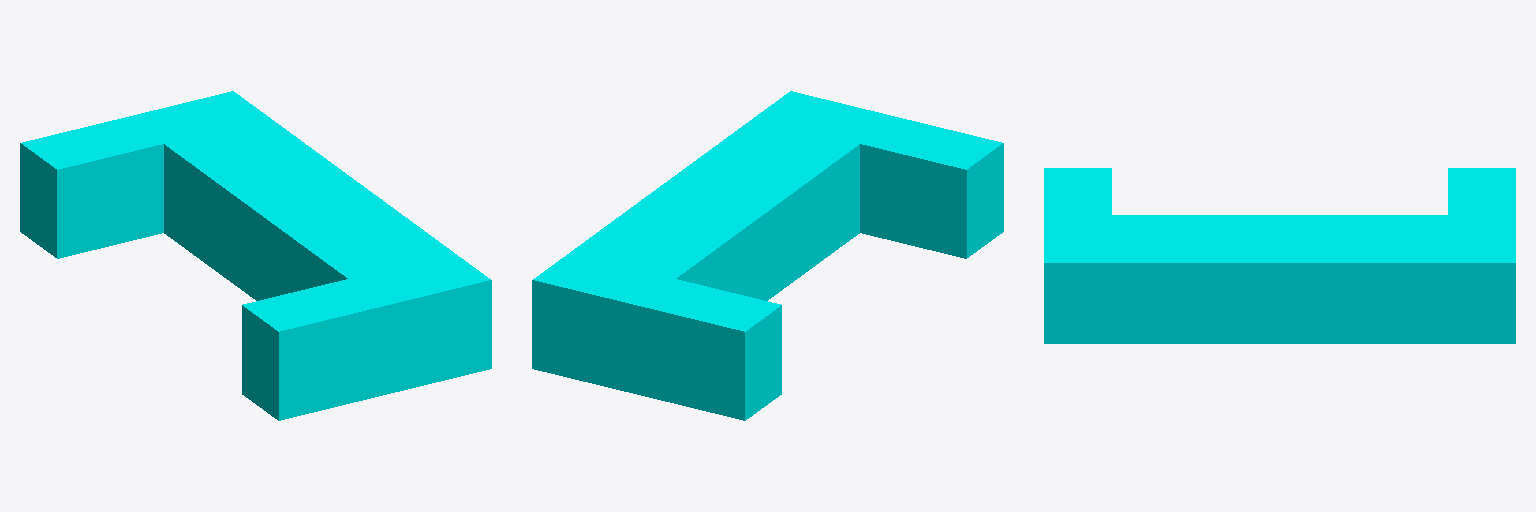
URDF robot description (manipulated_object):
<?xml version="0.0" ?>
<!--
  ~ Copyright 2020 Google LLC
  ~
  ~ Licensed under the Apache License, Version 2.0 (the "License");
  ~ you may not use this file except in compliance with the License.
  ~ You may obtain a copy of the License at
  ~
  ~     https://www.apache.org/licenses/LICENSE-2.0
  ~
  ~ Unless required by applicable law or agreed to in writing, software
  ~ distributed under the License is distributed on an "AS IS" BASIS,
  ~ WITHOUT WARRANTIES OR CONDITIONS OF ANY KIND, either express or implied.
  ~ See the License for the specific language governing permissions and
  ~ limitations under the License.
  -->

<robot name="manipulated_object">
    <link name="handleBody">
        <inertial>
            <origin rpy="0 0 0" xyz="0.075 0.0 0.02"/>
            <mass value="0.5"/>
            <inertia ixx="1" ixy="0" ixz="0" iyy="1" iyz="0" izz="1"/>
        </inertial>
        <visual>
            <origin rpy="0 0 0" xyz="0.075 0.0 0.02"/>
            <geometry>
                <box size="0.05 0.15 0.04"/>
            </geometry>
            <material name="yellow">
                <color rgba="0 1 1 1"/>
            </material>
        </visual>
        <collision>
            <origin rpy="0 0 0" xyz="0.075 0.0 0.02"/>
            <geometry>
                <box size="0.05 0.15 0.04"/>
            </geometry>
        </collision>
    </link>
    <link name="handleLeft">
        <inertial>
            <origin rpy="0 0 0" xyz="0.05 0.09 0.02"/>
            <mass value="0.5"/>
            <inertia ixx="1" ixy="0" ixz="0" iyy="1" iyz="0" izz="1"/>
        </inertial>
        <visual>
            <origin rpy="0 0 0" xyz="0.05 0.09 0.02"/>
            <geometry>
                <box size="0.1 0.03 0.04"/>
            </geometry>
            <material name="yellow">
                <color rgba="0 1 1 1"/>
            </material>
        </visual>
        <collision>
            <origin rpy="0 0 0" xyz="0.05 0.09 0.02"/>
            <geometry>
                <box size="0.1 0.03 0.04"/>
            </geometry>
        </collision>
    </link>
    <link name="handleRight">
        <inertial>
            <origin rpy="0 0 0" xyz="0.05 -0.09 0.02"/>
            <mass value="0.5"/>
            <inertia ixx="1" ixy="0" ixz="0" iyy="1" iyz="0" izz="1"/>
        </inertial>
        <visual>
            <origin rpy="0 0 0" xyz="0.05 -0.09 0.02"/>
            <geometry>
                <box size="0.1 0.03 0.04"/>
            </geometry>
            <material name="yellow">
                <color rgba="0 1 1 1"/>
            </material>
        </visual>
        <collision>
            <origin rpy="0 0 0" xyz="0.05 -0.09 0.02"/>
            <geometry>
                <box size="0.1 0.03 0.04"/>
            </geometry>
        </collision>
    </link>
    <joint name="bodyLeft" type="fixed">
        <parent link="handleBody"/>
        <child link="handleLeft"/>
        <origin xyz="0.0 0.0 0.0"/>
    </joint>
    <joint name="bodyRight" type="fixed">
        <parent link="handleBody"/>
        <child link="handleRight"/>
        <origin xyz="0.0 0.0 0.0"/>
    </joint>
</robot>

--- Facts derived from the render (not from the file) ---
The picture shows the robot from 3 angles, left to right: view 1: azimuth 30°, elevation 25°; view 2: azimuth 150°, elevation 25°; view 3: azimuth 270°, elevation 25°; orthographic projection.
Model manipulated_object with 3 links and 2 joints (2 fixed), rooted at handleBody, posed every joint at zero.
Visible links, largest first — view 1: handleBody, handleRight, handleLeft; view 2: handleBody, handleLeft, handleRight; view 3: handleBody, handleLeft, handleRight.
Boxes of the visible links, x1=… form: handleBody: x1=164, y1=118, x2=453, y2=300; handleRight: x1=242, y1=253, x2=491, y2=420; handleLeft: x1=20, y1=91, x2=269, y2=258; handleBody: x1=570, y1=118, x2=859, y2=300; handleLeft: x1=532, y1=253, x2=781, y2=420; handleRight: x1=754, y1=91, x2=1003, y2=258; handleBody: x1=1112, y1=215, x2=1447, y2=343; handleLeft: x1=1448, y1=168, x2=1515, y2=343; handleRight: x1=1044, y1=168, x2=1111, y2=343.
Size in the robot's own frame: 0.1 by 0.21 by 0.04 metres.
Geometry: primitives only (box / cylinder / sphere), no mesh files.